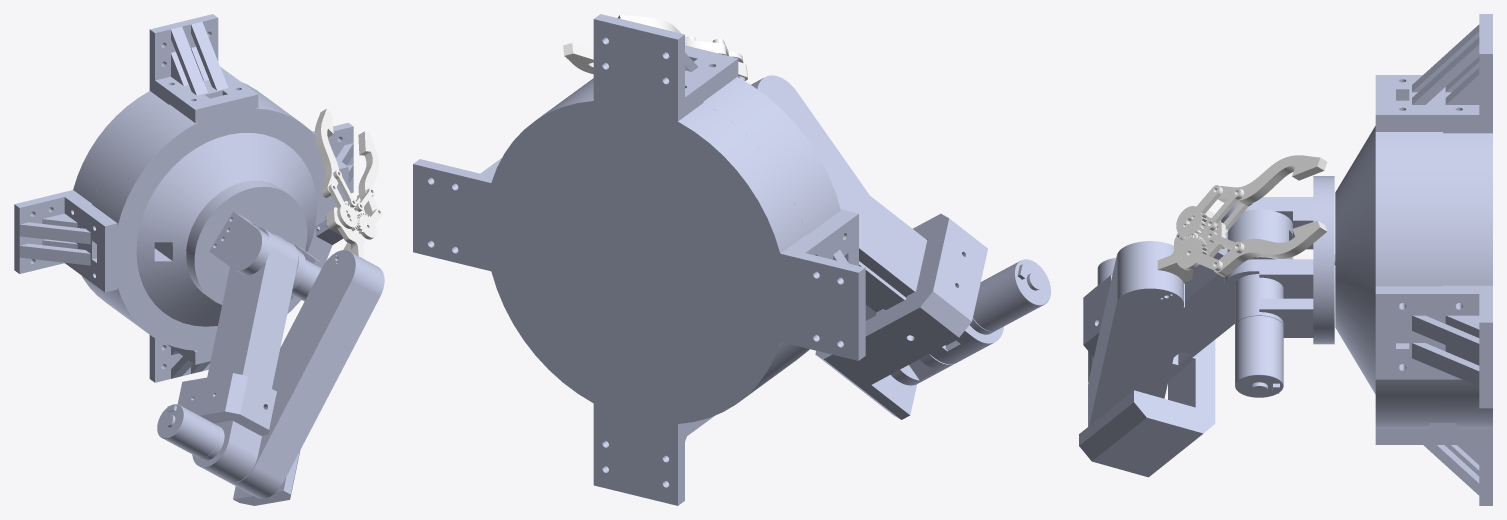
The model's file is Ensamble_Completo_de_diseño.glb.
The picture shows the model from 3 angles, left to right: view 1: azimuth 30°, elevation 25°; view 2: azimuth 150°, elevation 25°; view 3: azimuth 270°, elevation 25°; orthographic projection. The views are drawn at different scales.
Parts seen in each view (by area): view 1: Base-1, Brazo tercer grado-1, Brazo segundo grado de libertad-1, Ensambles laterales base-4, Ensambles laterales base-3, Base segundo grado de libertad-1, encaje de tercer grado-1, Base sellado inferior a presion-1, Tapa 2grado-1, Motor con encoder-3, Ensambles laterales base-6, Ensambles laterales base-5 (+6 smaller); view 2: Base sellado inferior a presion-1, encaje de tercer grado-1, Ensambles laterales base-3, Ensambles laterales base-4, Base-1, Ensambles laterales base-6, Ensambles laterales base-5, Brazo segundo grado de libertad-1, Motor con encoder-3, Brazo tercer grado-1, Cierre eléctrico-2, Gripper 1-1; view 3: Base-1, Brazo tercer grado-1, Ensambles laterales base-5, encaje de tercer grado-1, Base sellado inferior a presion-1, Ensambles laterales base-3, Base segundo grado de libertad-1, Brazo segundo grado de libertad-1, Motor con encoder-2, Ensambles laterales base-6, Gripper 1-2, Gripper 1-1 (+5 smaller).
Boxes of the visible parts, x1,y1,x2,y2 form: Base-1: [88, 95, 339, 355]; Brazo tercer grado-1: [229, 250, 384, 498]; Brazo segundo grado de libertad-1: [192, 227, 298, 482]; Ensambles laterales base-4: [14, 191, 113, 292]; Ensambles laterales base-3: [149, 14, 258, 119]; Base segundo grado de libertad-1: [186, 180, 322, 304]; encaje de tercer grado-1: [177, 373, 299, 505]; Base sellado inferior a presion-1: [69, 82, 274, 315]; Tapa 2grado-1: [209, 211, 270, 275]; Motor con encoder-3: [157, 404, 224, 460]; Ensambles laterales base-6: [149, 335, 212, 382]; Ensambles laterales base-5: [312, 122, 353, 201]; Base sellado inferior a presion-1: [485, 87, 811, 430]; encaje de tercer grado-1: [815, 213, 987, 419]; Ensambles laterales base-3: [593, 14, 738, 115]; Ensambles laterales base-4: [786, 211, 865, 360]; Base-1: [563, 71, 846, 382]; Ensambles laterales base-6: [593, 410, 714, 505]; Ensambles laterales base-5: [413, 158, 501, 269]; Brazo segundo grado de libertad-1: [822, 158, 1003, 364]; Motor con encoder-3: [945, 259, 1050, 345]; Brazo tercer grado-1: [751, 75, 955, 385]; Cierre eléctrico-2: [859, 261, 906, 310]; Gripper 1-1: [618, 15, 726, 55]; Base-1: [1335, 126, 1442, 432]; Brazo tercer grado-1: [1088, 241, 1183, 426]; Ensambles laterales base-5: [1375, 288, 1492, 408]; encaje de tercer grado-1: [1079, 274, 1215, 477]; Base sellado inferior a presion-1: [1443, 127, 1492, 432]; Ensambles laterales base-3: [1375, 14, 1492, 127]; Base segundo grado de libertad-1: [1224, 176, 1334, 344]; Brazo segundo grado de libertad-1: [1088, 209, 1292, 381]; Motor con encoder-2: [1235, 274, 1283, 397]; Ensambles laterales base-6: [1375, 432, 1492, 505]; Gripper 1-2: [1214, 220, 1327, 276]; Gripper 1-1: [1218, 155, 1327, 204].
Size of the model in its own units: 0.37 by 0.3939 by 0.307.
